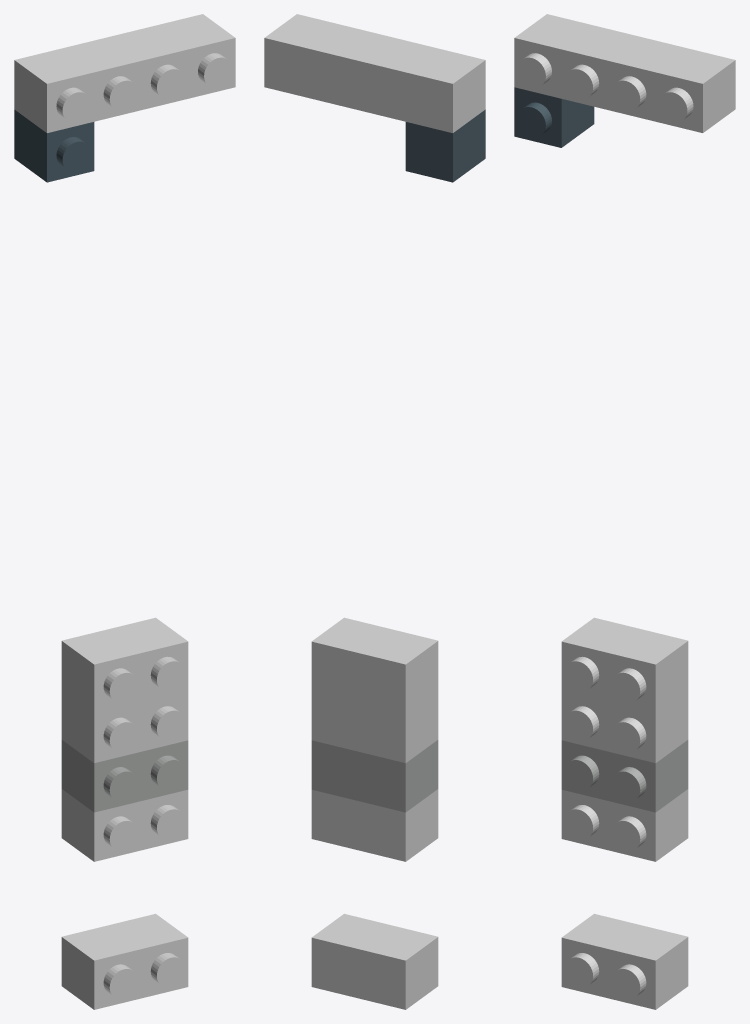
The model's file is current.glb.
The picture shows the model from 3 angles, left to right: view 1: azimuth 30°, elevation 25°; view 2: azimuth 150°, elevation 25°; view 3: azimuth 330°, elevation 25°; orthographic projection.
Parts seen in each view (by area): view 1: world; view 2: world; view 3: world.
Boxes of the visible parts, x1,y1,x2,y2 form: world: (14, 14, 235, 1009); world: (264, 14, 485, 1009); world: (514, 14, 735, 1009).
Size of the model in its own units: 32 by 152 by 11.4.
